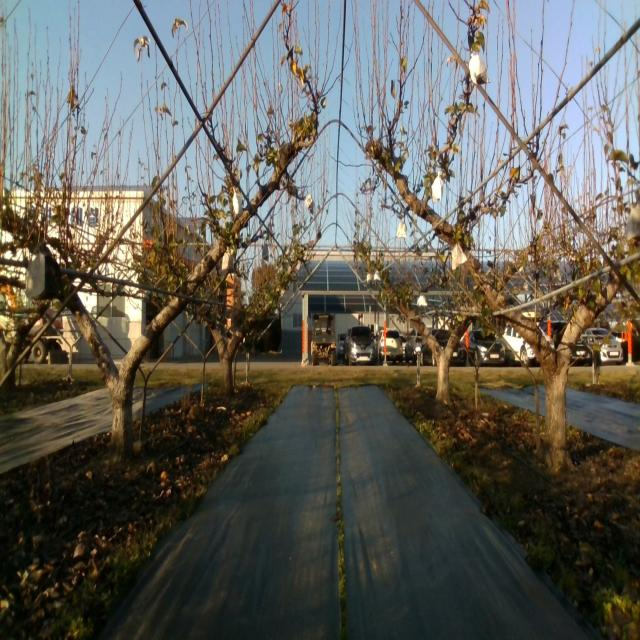pearbags: (468, 52, 491, 86), (452, 242, 468, 270), (432, 170, 443, 203), (221, 247, 234, 273), (232, 187, 243, 216), (396, 219, 407, 238)
